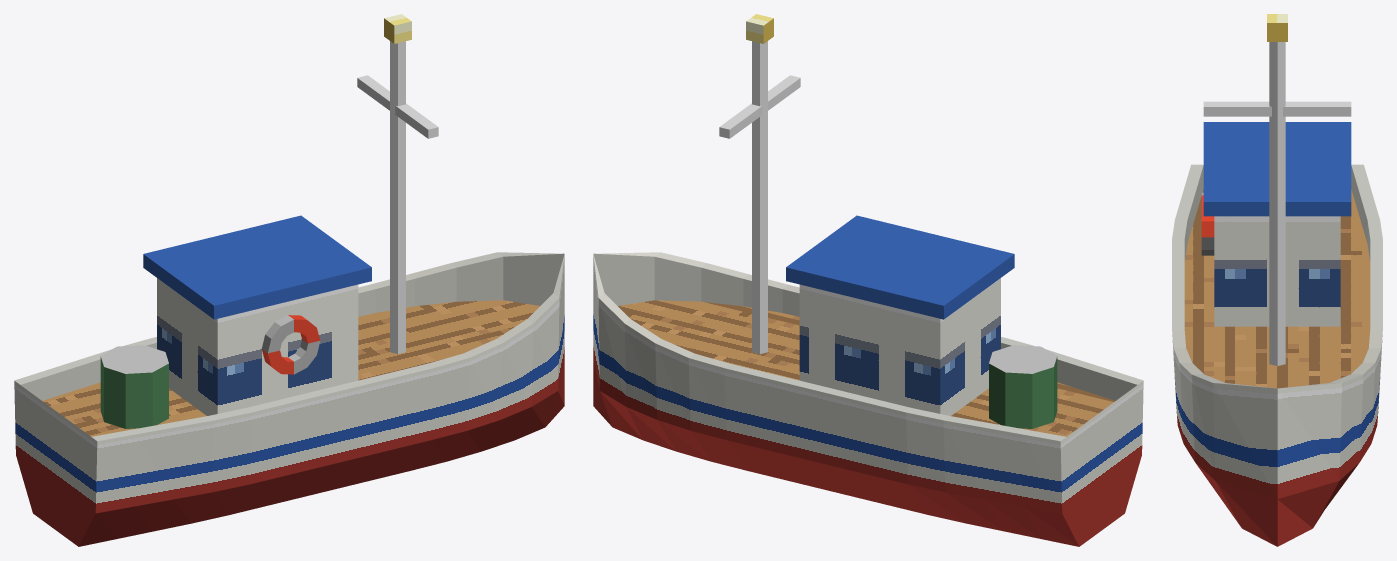
Rendered from fishing_boat.obj.
The picture shows the model from 3 angles, left to right: view 1: azimuth 30°, elevation 25°; view 2: azimuth 150°, elevation 25°; view 3: azimuth 270°, elevation 25°; orthographic projection. The views are drawn at different scales.
Bounding box in the file's own units: 87 × 69.75 × 30.
